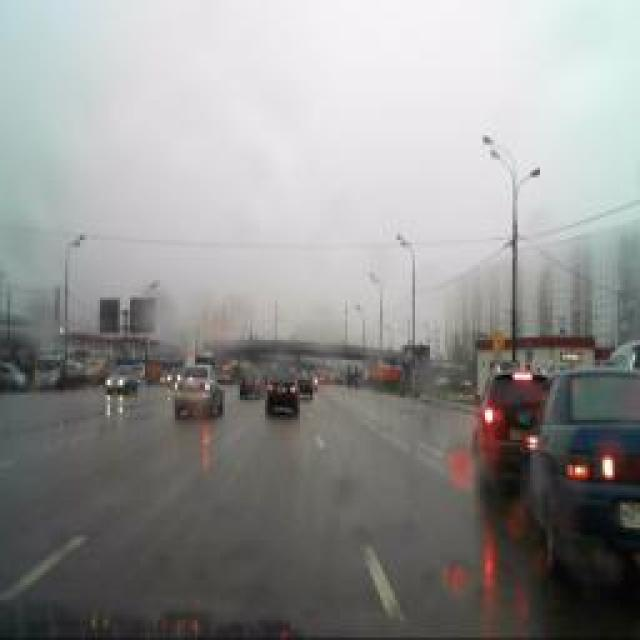sign: (492, 354, 502, 368)
